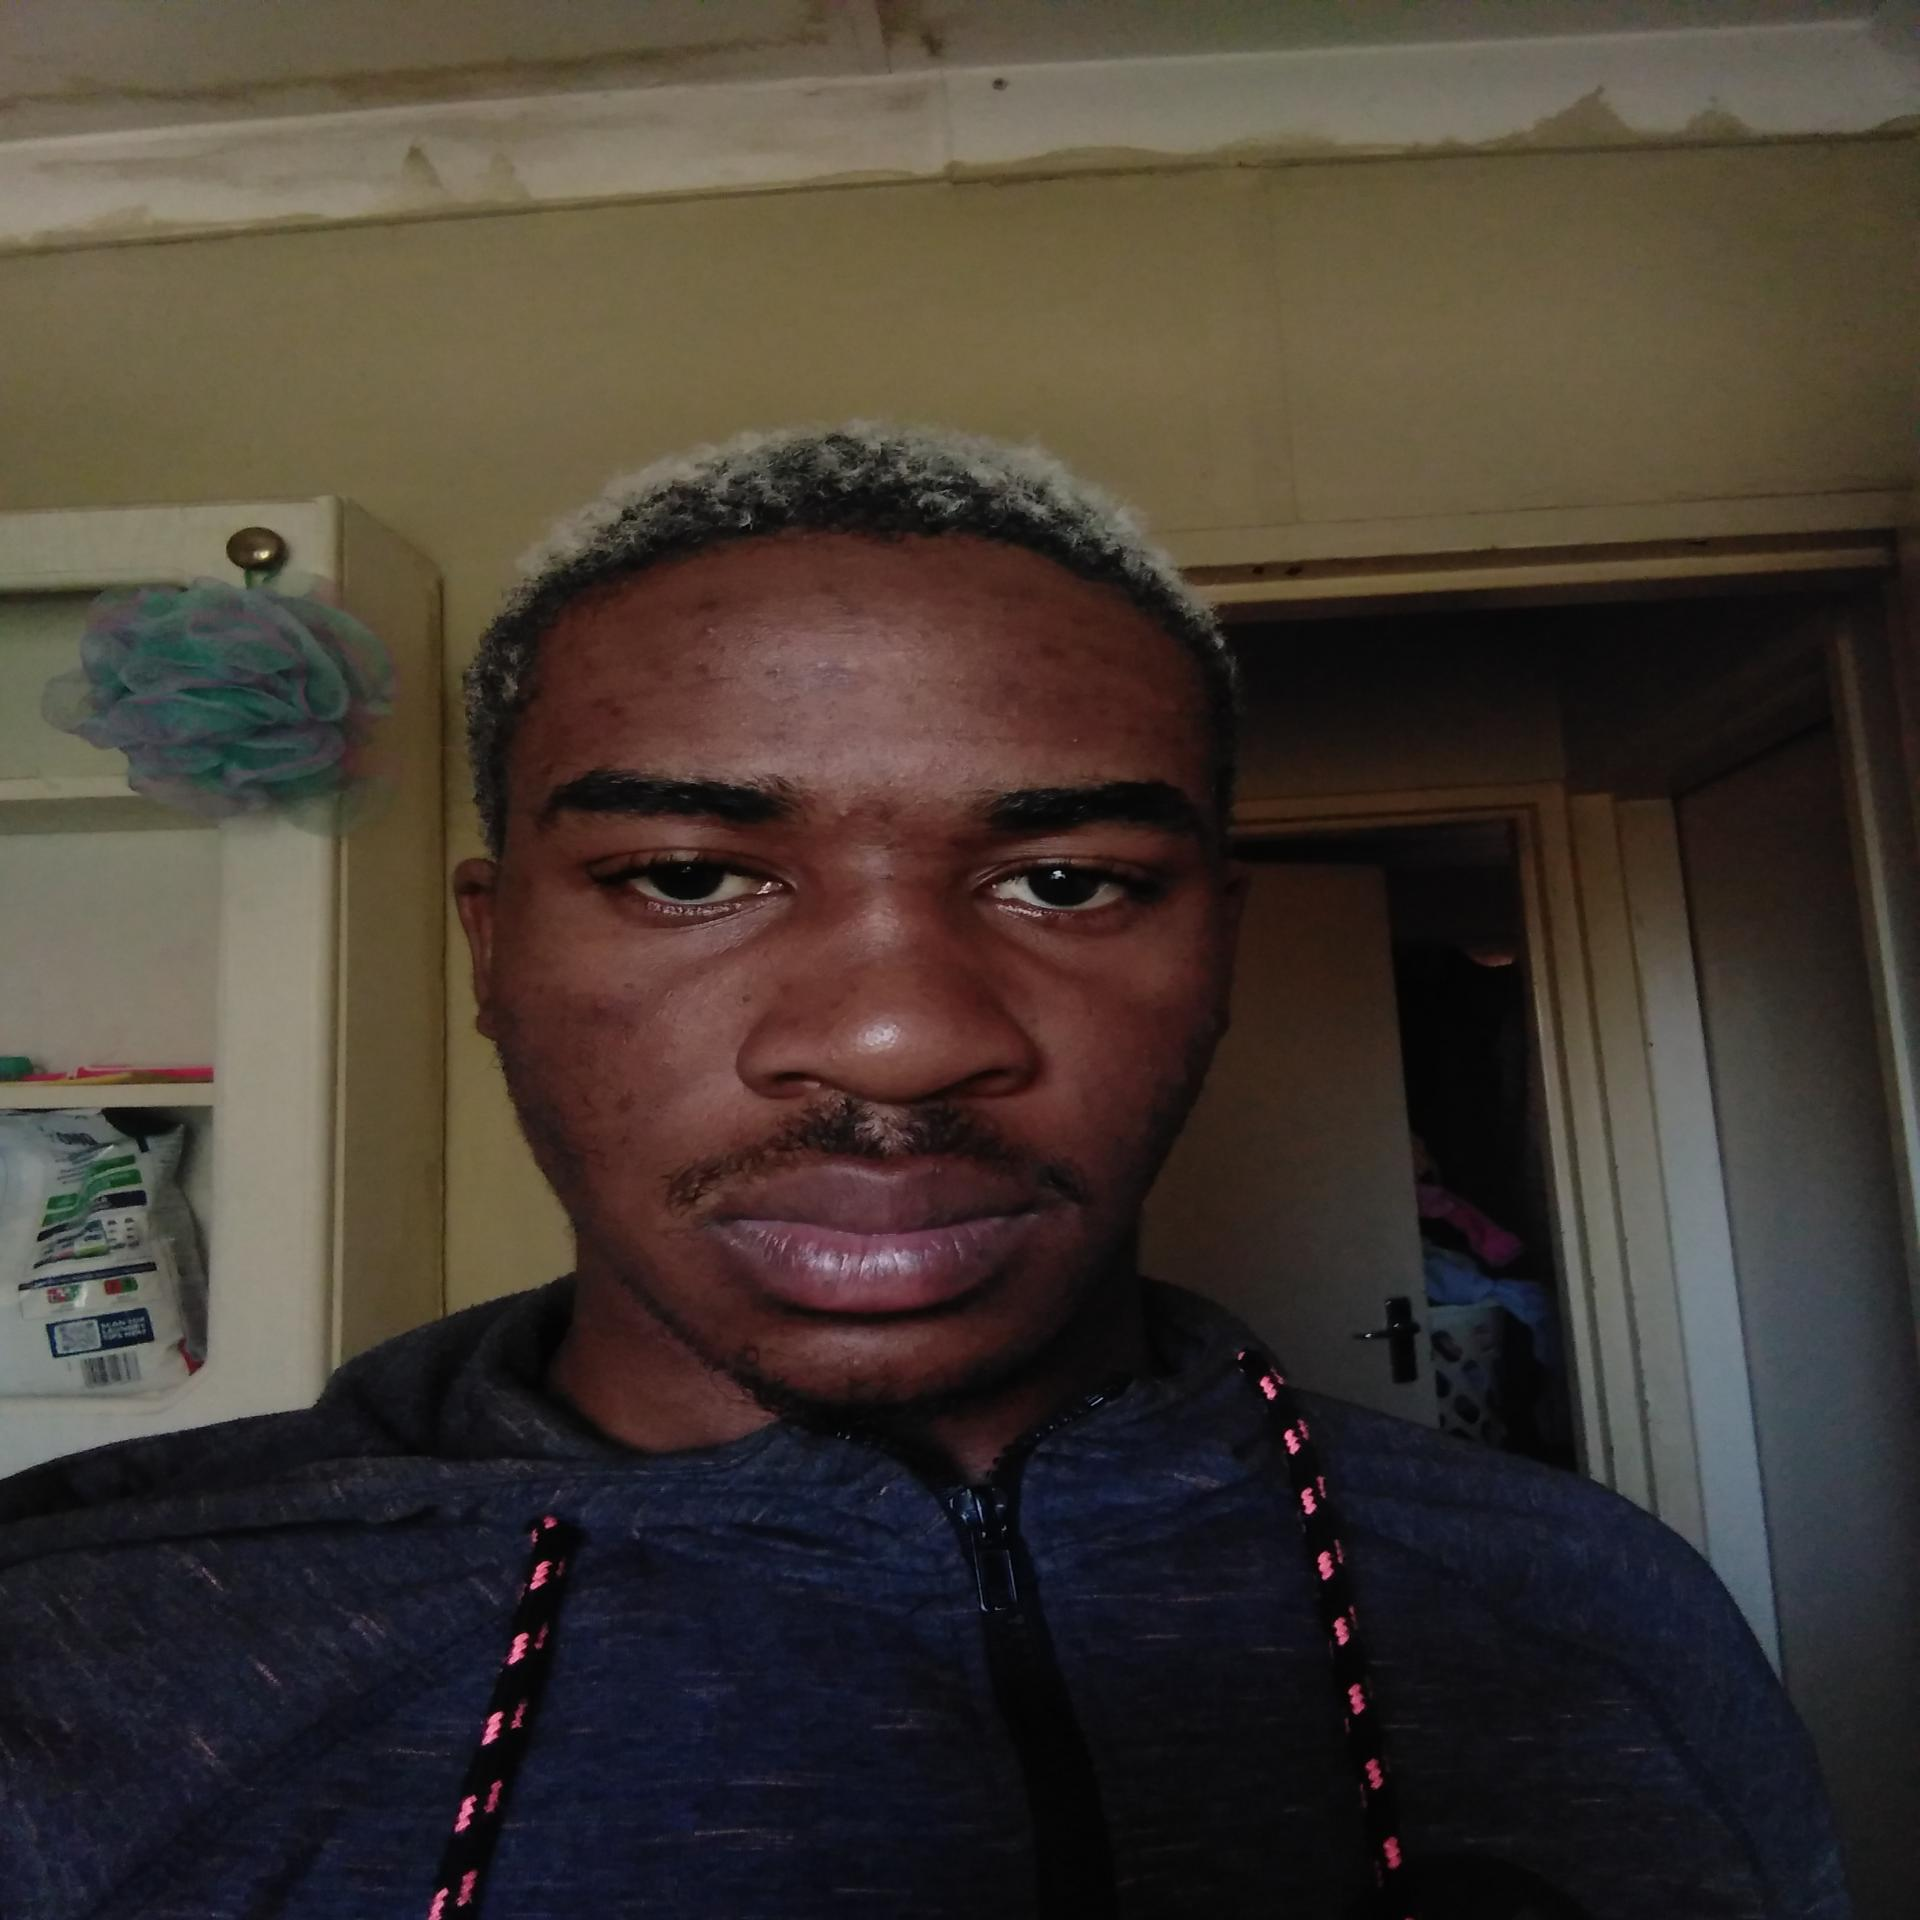Acne: (584, 696, 631, 724), (976, 587, 1048, 605), (605, 1085, 640, 1118), (825, 593, 862, 624), (1074, 1088, 1106, 1120), (691, 593, 726, 615), (758, 663, 789, 684), (830, 800, 858, 823), (872, 863, 904, 883), (585, 993, 610, 1018), (526, 979, 552, 1002), (779, 1011, 805, 1034), (846, 879, 870, 902), (696, 619, 728, 636), (679, 658, 717, 672), (767, 976, 795, 995), (1160, 698, 1182, 721), (1043, 642, 1064, 659), (578, 1090, 594, 1111), (811, 580, 837, 593), (1069, 614, 1088, 628), (916, 717, 934, 731)
Englarged Pores: (629, 978, 695, 1048)
Wrinkles: (920, 675, 1094, 700), (617, 672, 747, 700), (608, 723, 717, 745), (953, 730, 1067, 747)
